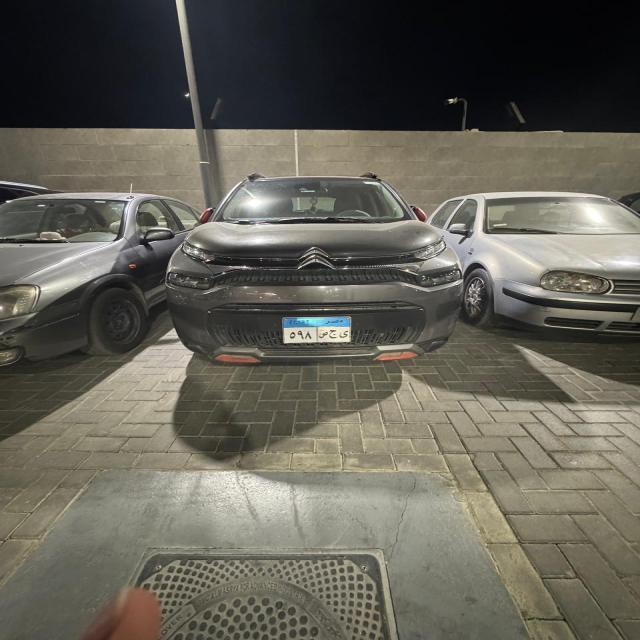car-plate: (285, 319, 353, 344)
